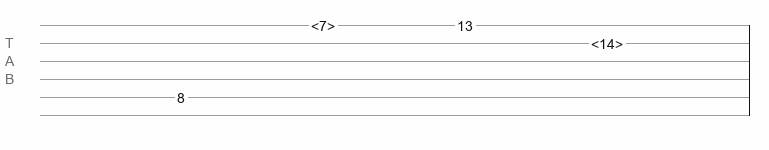13: (457, 18, 473, 28)
8: (177, 90, 185, 100)
harmonic: (591, 36, 623, 46), (311, 18, 335, 28)
